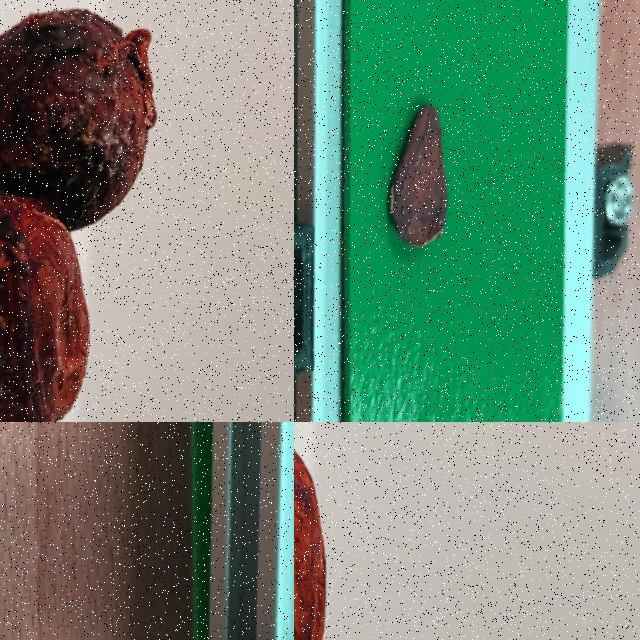Agglomerated_cocoabeans: (0, 0, 179, 421)
Flat_cocoabeans: (350, 40, 480, 346)
